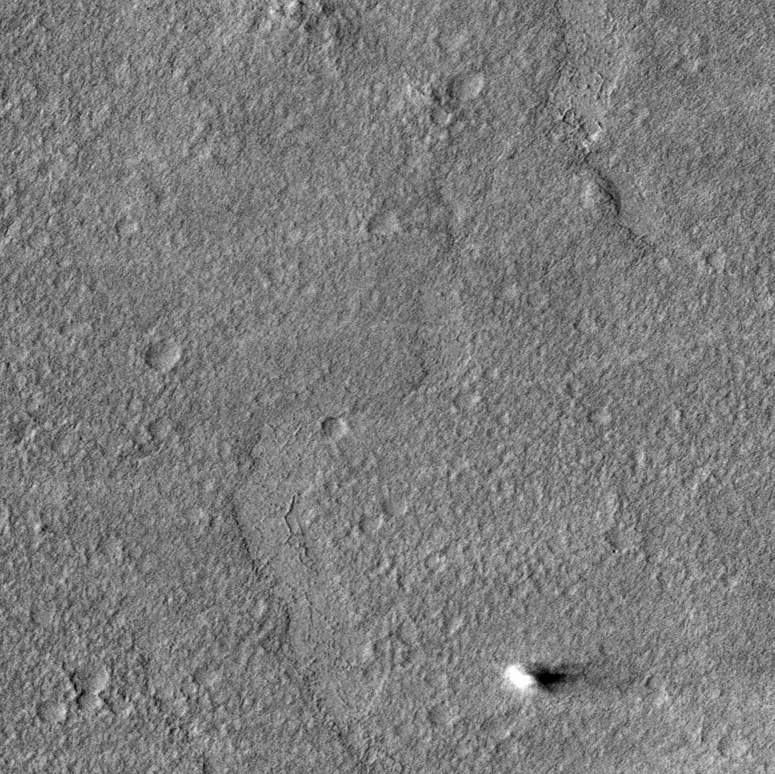dust_devil: (500, 659, 587, 696)
